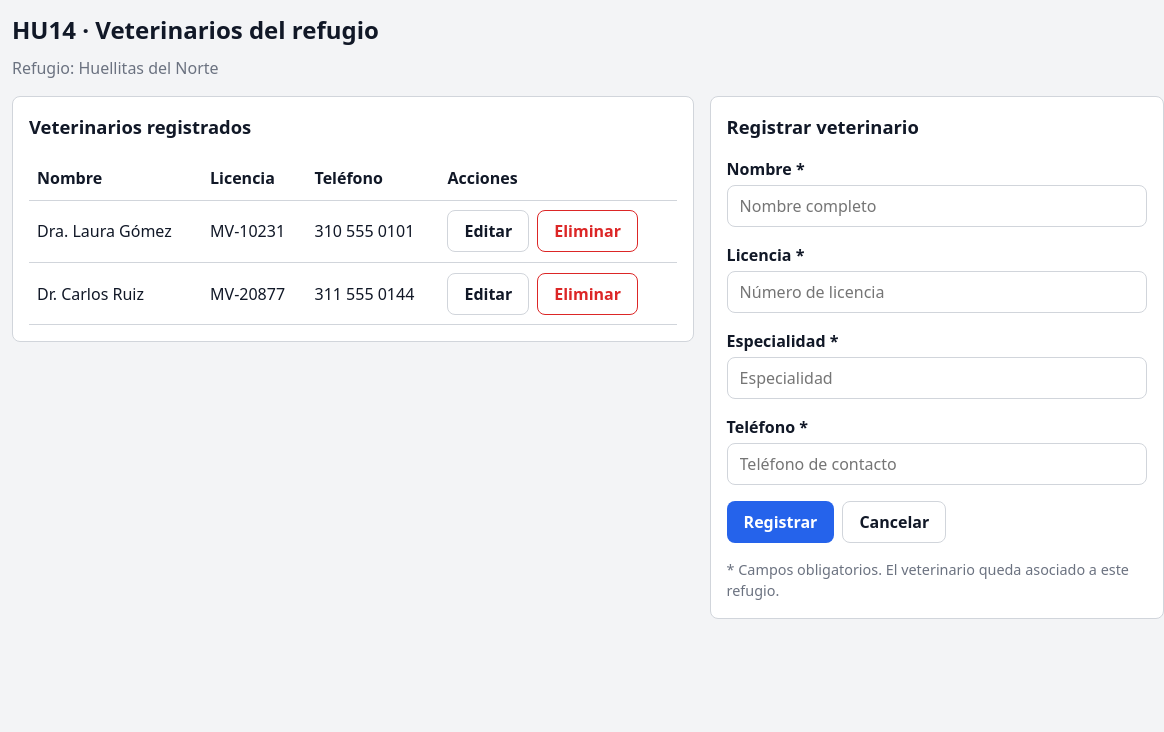
VeterinariansPage › edits a veterinarian and shows the changes
Expected: the text "Refugio: Huellitas del Norte" is shown, [12,57,219,79]
Click the button with aria-label "Editar a Dra. Laura Gómez" at (488, 231), box [447,210,529,252]
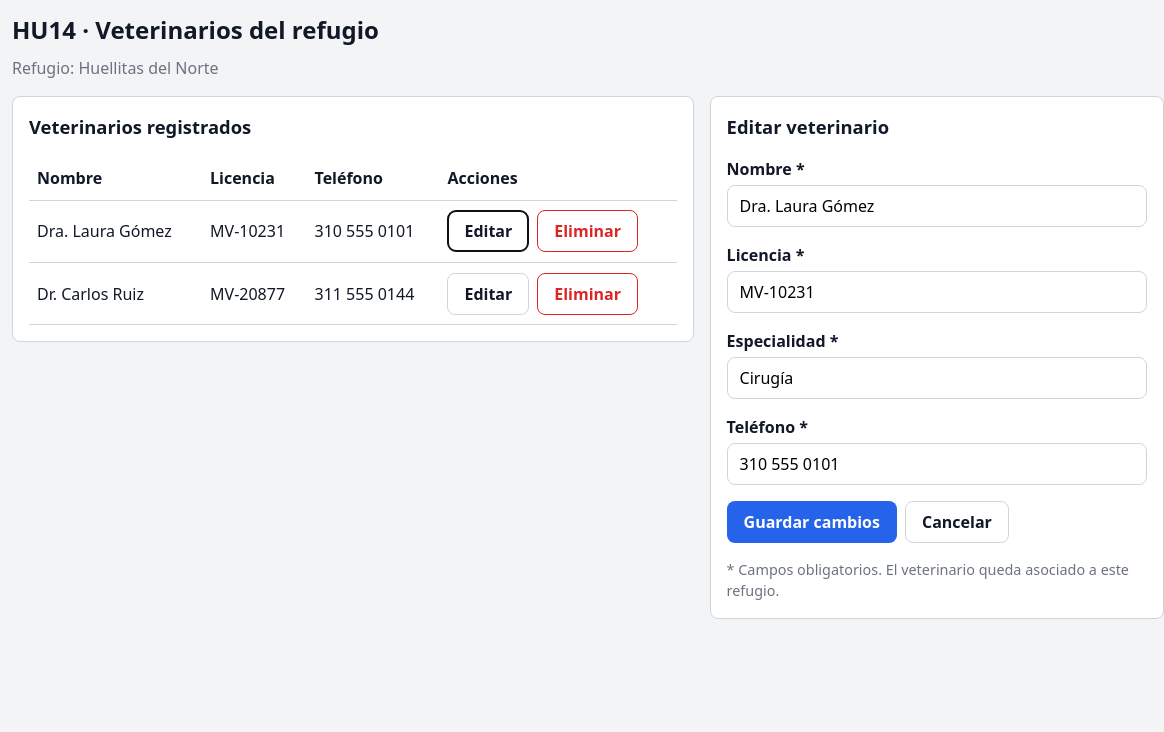
Expected: the heading "Editar veterinario" is shown, [727,114,889,139]
Expected: the field labelled "Nombre *" holds "Dra. Laura Gómez"
Replace the text in the field labelled "Nombre *" with "Dra. Laura G." at (937, 206), box [727,185,1147,227]
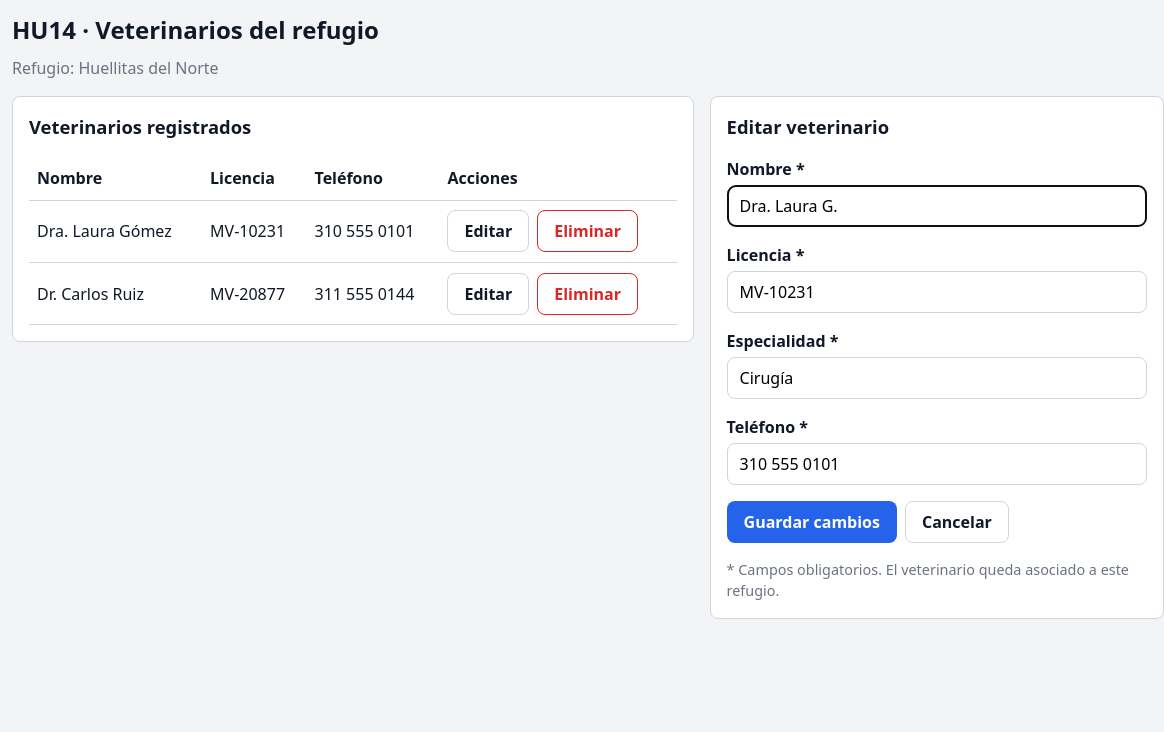
Click the button "Guardar cambios" at (812, 522), box [727,501,897,543]
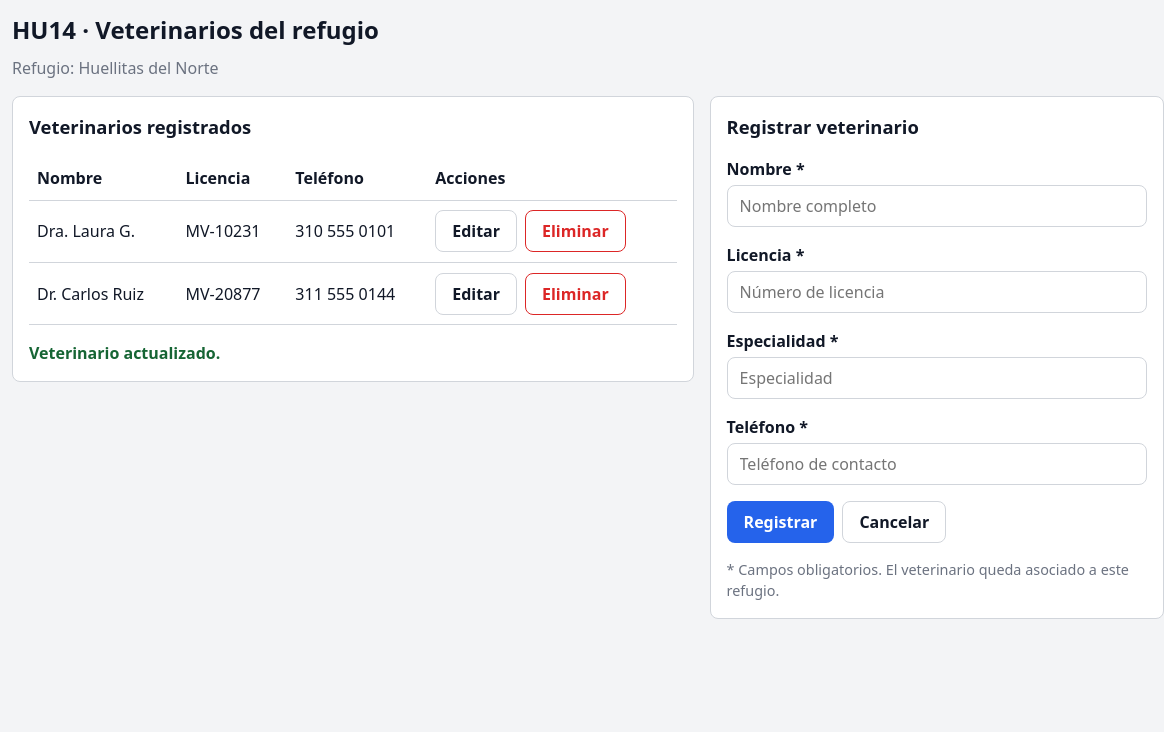
Expected: the text "Dra. Laura G." is shown, [29,200,178,262]
Expected: the text "Veterinario actualizado." is shown, [29,342,220,364]
Expected: the heading "Registrar veterinario" is shown, [727,114,919,139]
